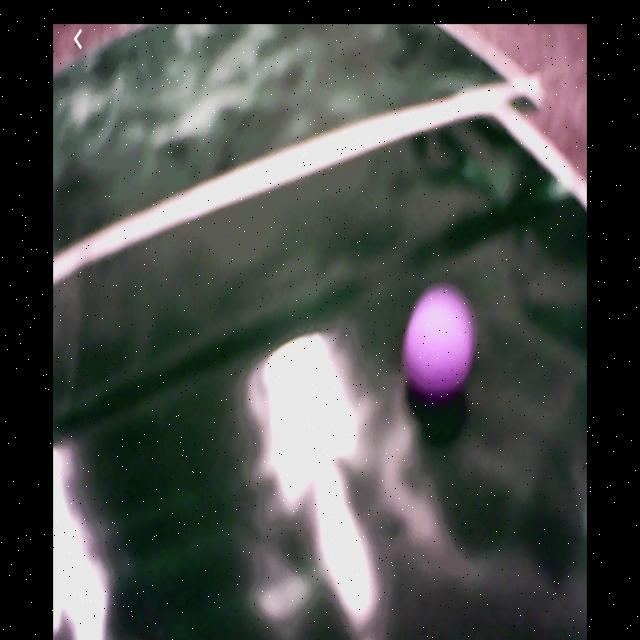ball: (402, 283, 478, 401)
